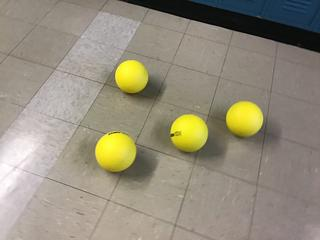power_cell: (92, 129, 139, 172), (167, 113, 210, 156), (224, 100, 263, 139), (113, 59, 151, 96)
